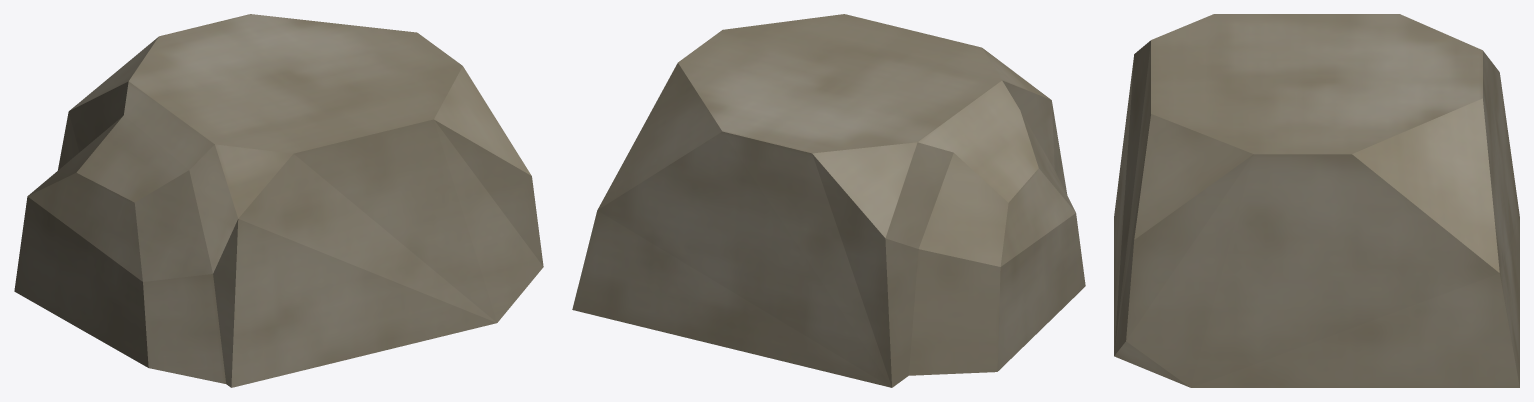
File: rock_large1_fbx.fbx
3 renders of one model, left to right at view 1: azimuth 30°, elevation 25°; view 2: azimuth 150°, elevation 25°; view 3: azimuth 270°, elevation 25°, orthographic. The views are drawn at different scales.
Visible parts, largest first — view 1: rock_large1; view 2: rock_large1; view 3: rock_large1.
Boxes of the visible parts, bbox=[...] form: rock_large1: bbox=[14, 14, 543, 387]; rock_large1: bbox=[572, 14, 1085, 387]; rock_large1: bbox=[1114, 14, 1519, 387].
Bounding box in the file's own units: 403 × 198 × 333.
Materials: 1 (1 with a texture image).
